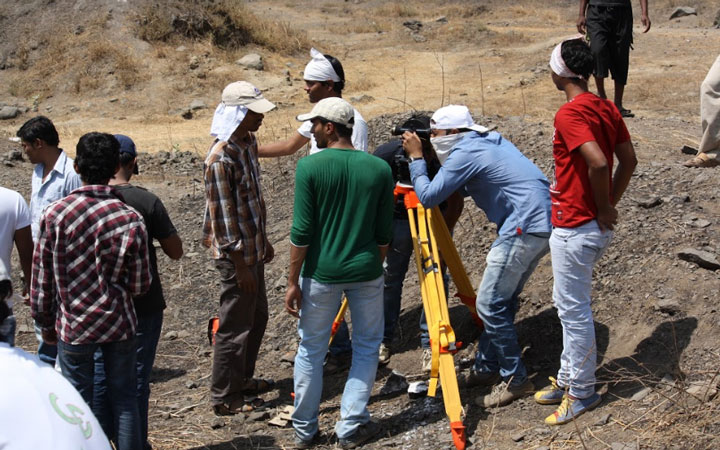noepi: (412, 105, 569, 406), (536, 36, 652, 418), (287, 92, 399, 446), (51, 130, 140, 450), (202, 81, 271, 414), (111, 123, 185, 261), (6, 116, 69, 220), (294, 48, 379, 115)
